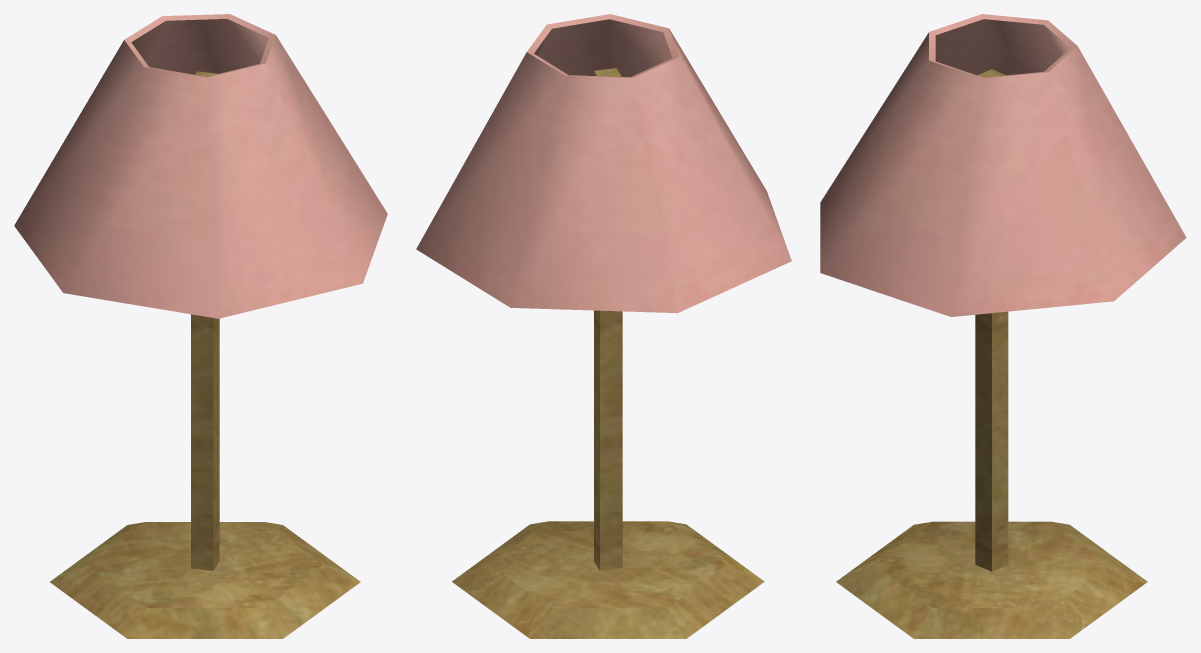
File: Lamps-col.glb
The picture shows the model from 3 angles, left to right: view 1: azimuth 30°, elevation 25°; view 2: azimuth 150°, elevation 25°; view 3: azimuth 270°, elevation 25°; orthographic projection.
Parts seen in each view (by area): view 1: Lamps-col; view 2: Lamps-col; view 3: Lamps-col.
Part boxes in pixels (<box>): Lamps-col: <box>14,14,387,638</box>; Lamps-col: <box>416,14,791,638</box>; Lamps-col: <box>820,14,1186,638</box>.
Bounding box in the file's own units: 0.4071 × 0.6405 × 0.3969.
2 materials, 2 textured.
